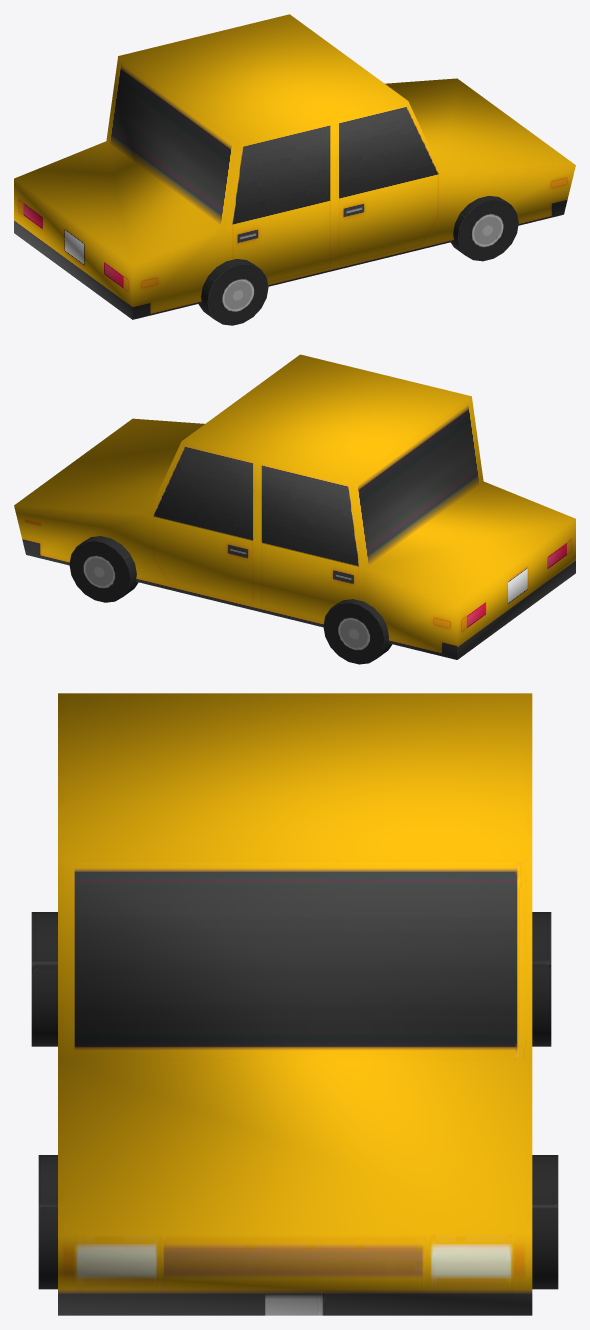
File: Car_orange.fbx
3 views of the same model, one above another, from view 1: azimuth 30°, elevation 25°; view 2: azimuth 150°, elevation 25°; view 3: azimuth 270°, elevation 25° (orthographic). The views are drawn at different scales.
Parts seen in each view (by area): view 1: Car_04; view 2: Car_04; view 3: Car_04.
Boxes of the visible parts, <box> form: Car_04: <box>14,14,575,325</box>; Car_04: <box>14,354,575,664</box>; Car_04: <box>31,693,558,1315</box>.
Bounding box in the file's own units: 76.54 × 28.93 × 39.39.
1 material, 1 textured.
